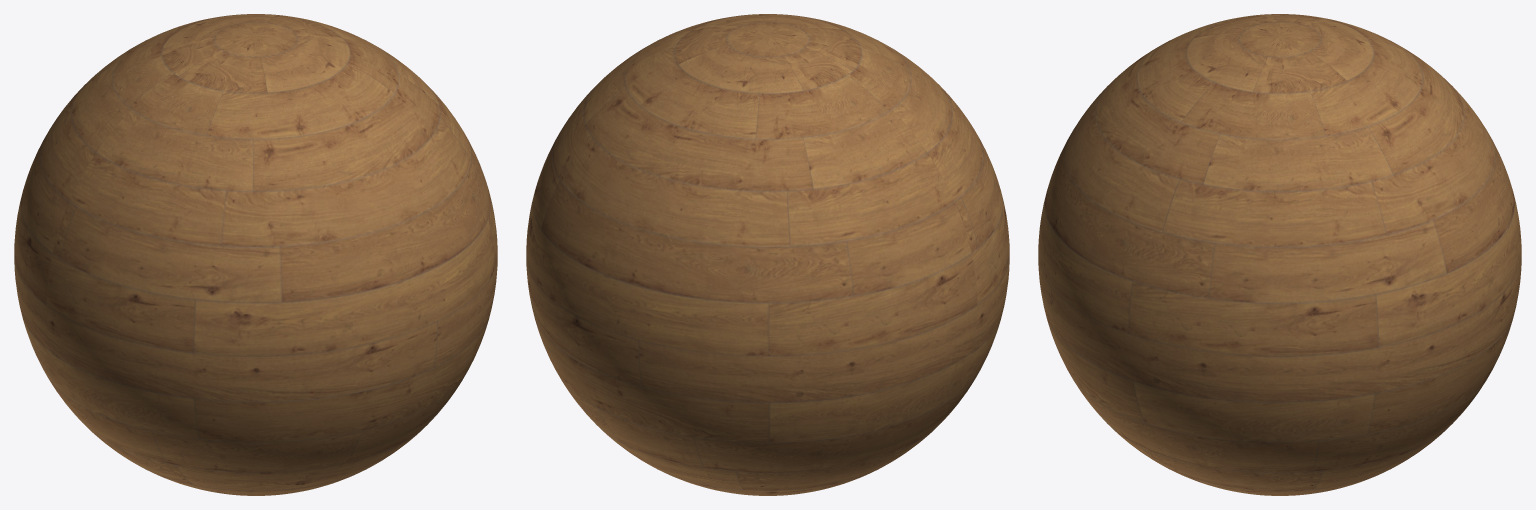
File: Wood_01.glb
3 renders of one model, left to right at view 1: azimuth 30°, elevation 25°; view 2: azimuth 150°, elevation 25°; view 3: azimuth 270°, elevation 25°, orthographic.
Visible parts, largest first — view 1: world; view 2: world; view 3: world.
Boxes of the visible parts, x1=… form: world: x1=14, y1=14, x2=497, y2=495; world: x1=526, y1=14, x2=1009, y2=495; world: x1=1038, y1=14, x2=1521, y2=495.
Bounding box in the file's own units: 0.6366 × 0.6366 × 0.6366.
Materials: 1 (1 with a texture image).
